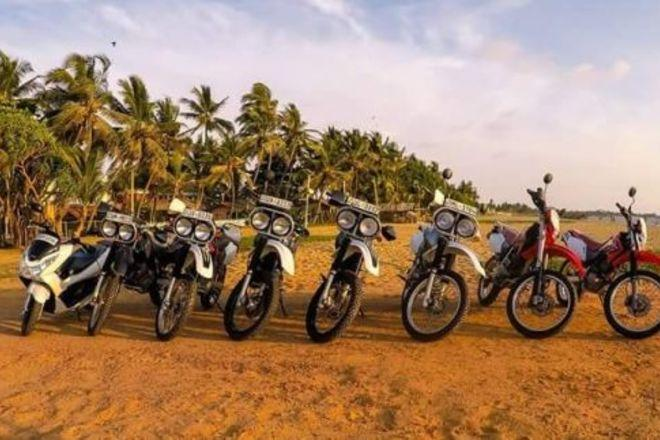motorbike: (477, 173, 585, 340), (556, 185, 660, 338), (399, 169, 487, 343), (305, 189, 395, 342), (224, 193, 306, 340), (154, 201, 238, 340), (86, 203, 168, 335), (18, 203, 98, 335)
